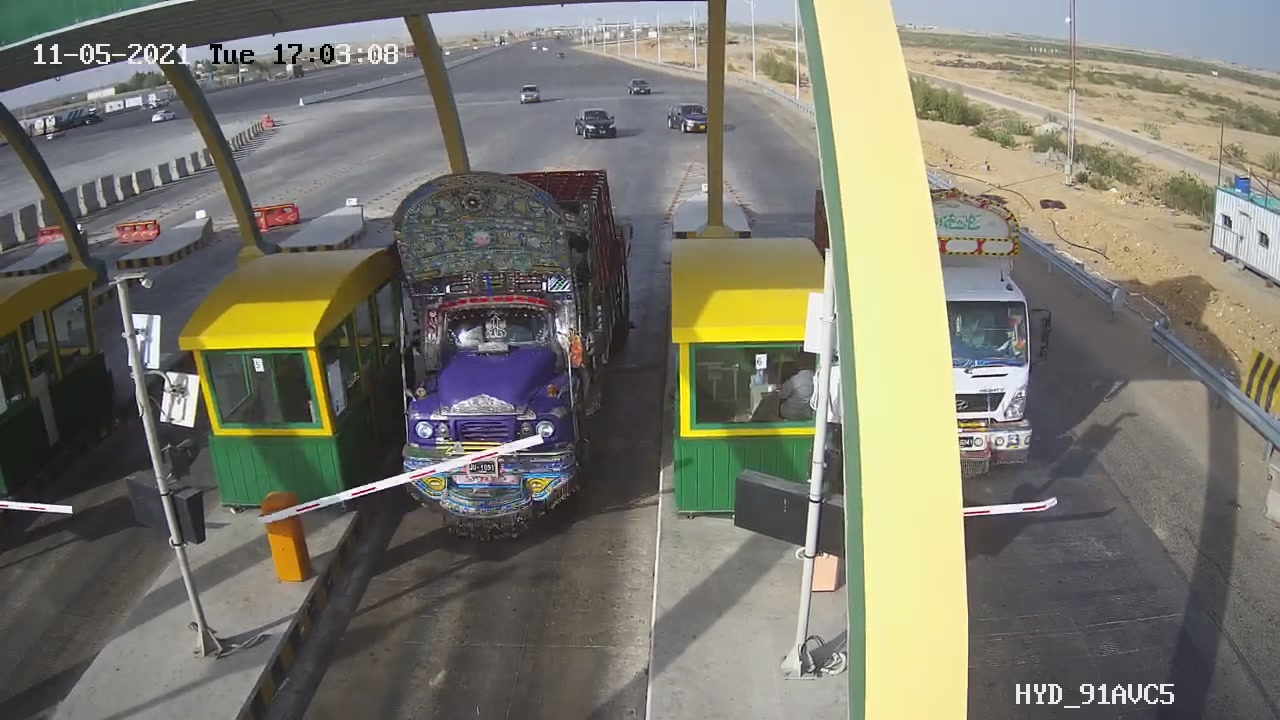F5: (339, 143, 660, 565)
